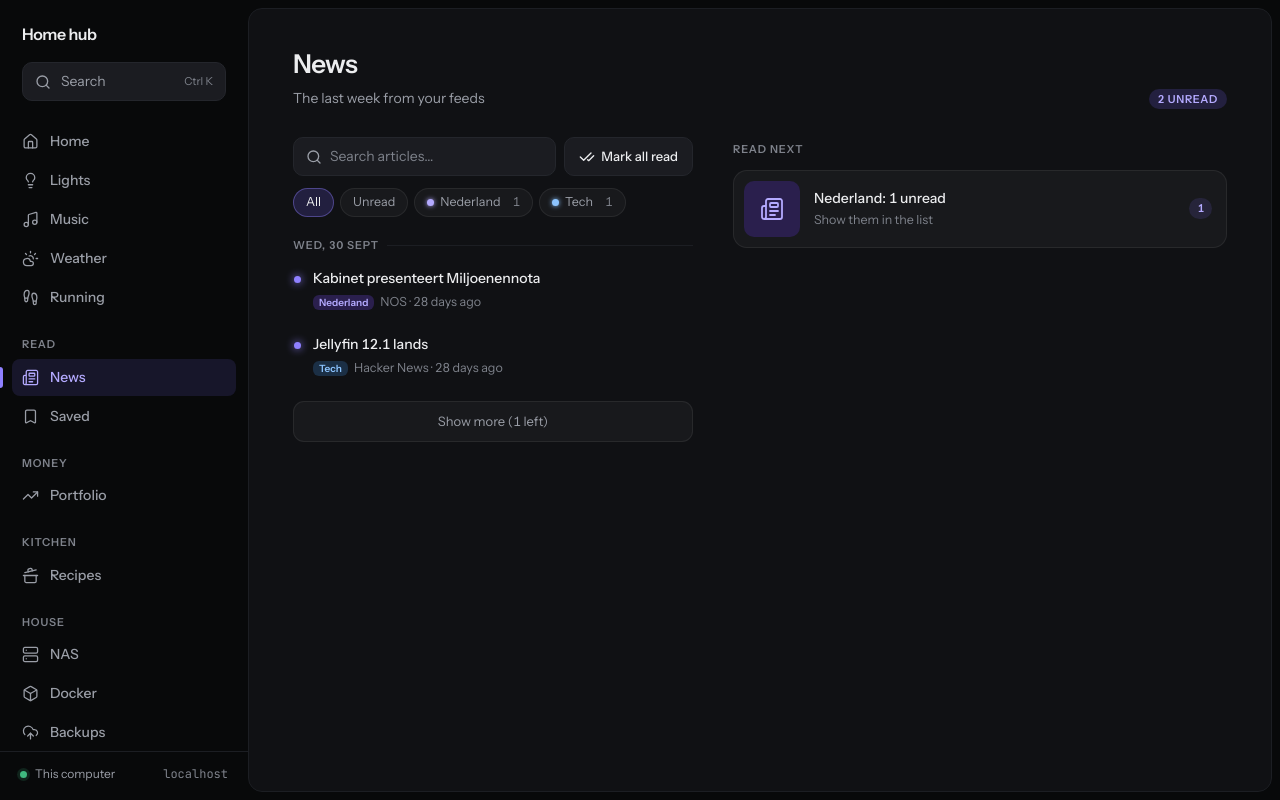
NewsPage › pages through long lists
Click the button "Show more (1 left)". click: [493, 422]
box: [293, 401, 693, 442]
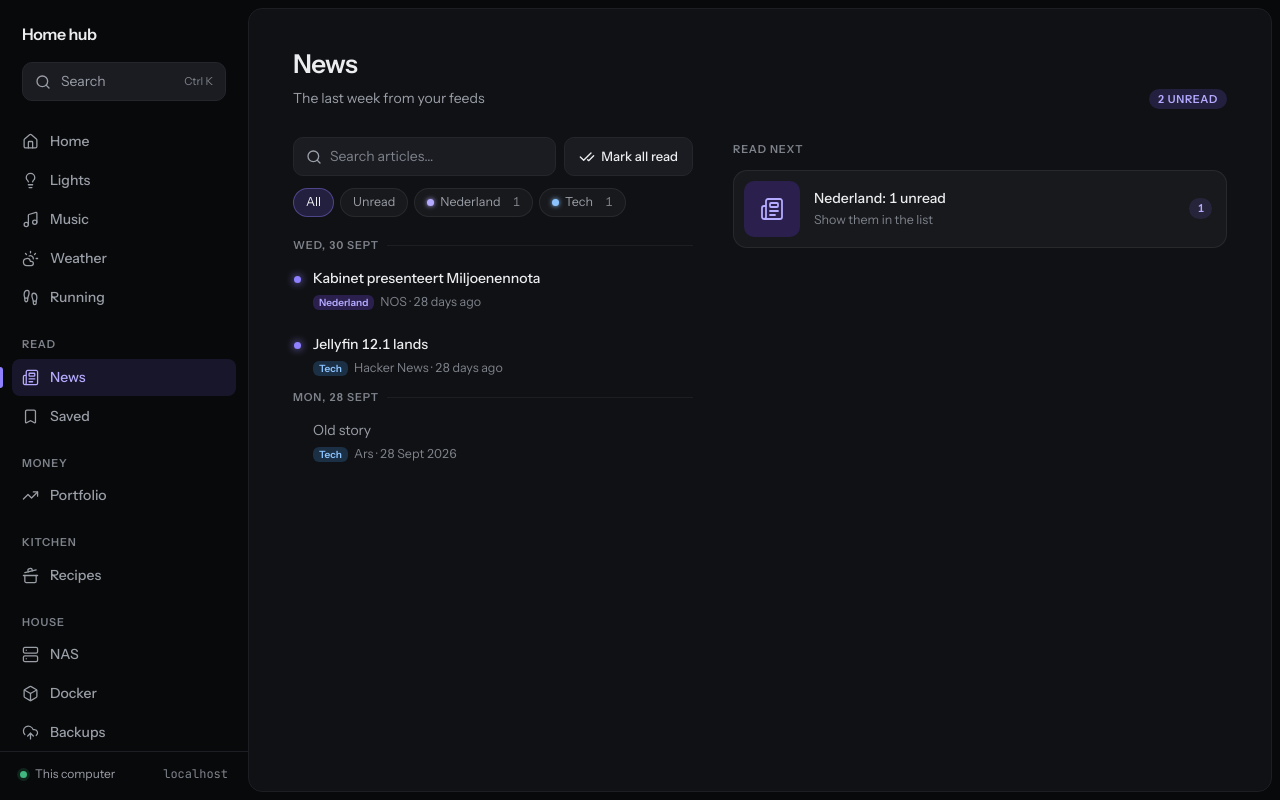
Expected: the text "Old story" is shown, [313, 421, 371, 439]
Expected: the button "Show more" is gone
